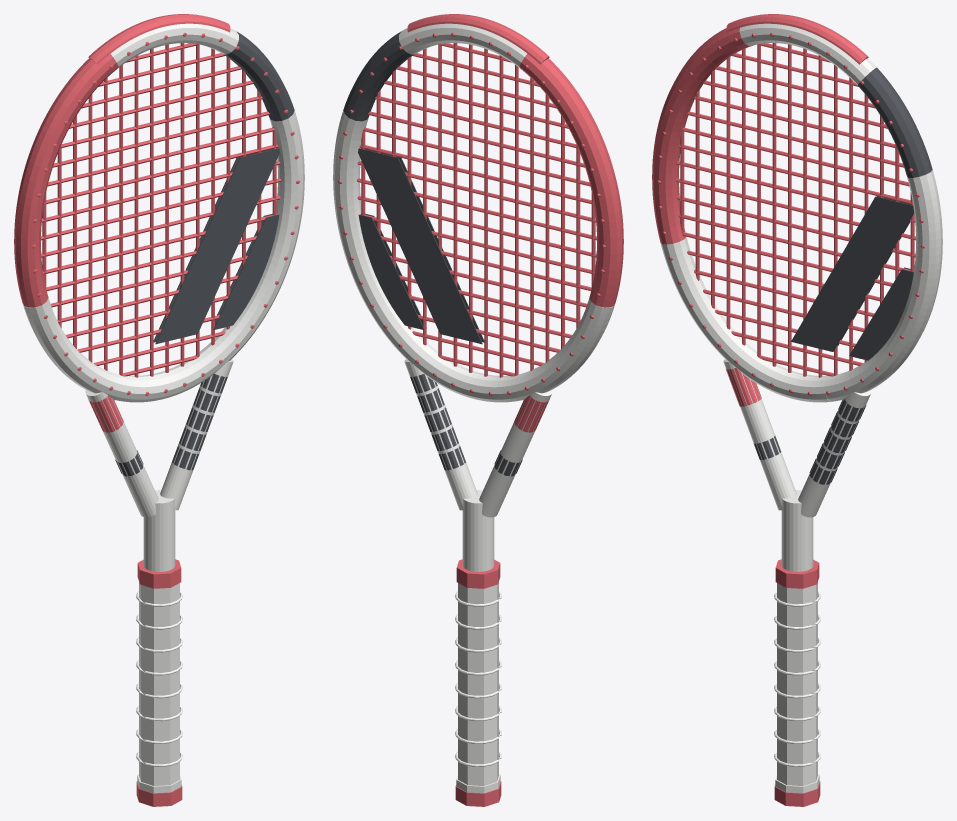
File: babolat-pure-strike-100.glb
3 renders of one model, left to right at view 1: azimuth 30°, elevation 25°; view 2: azimuth 150°, elevation 25°; view 3: azimuth 330°, elevation 25°, orthographic.
Visible parts, largest first — view 1: strings, frame, stencil, frame_black, handle, frame_white, throat, shaft, wraps, collar, grommets, cap; view 2: strings, frame, stencil, frame_black, handle, frame_white, throat, shaft, wraps, collar, grommets, cap; view 3: strings, frame, stencil, frame_black, handle, frame_white, throat, shaft, wraps, collar, grommets, cap.
Boxes of the visible parts, x1,y1,x2,y2 form: strings: (41,43,280,377); frame: (23,23,304,402); stencil: (153,148,279,344); frame_black: (14,14,230,432); handle: (139,582,179,785); frame_white: (115,31,294,476); throat: (85,359,233,517); shaft: (143,490,175,571); wraps: (136,591,182,766); collar: (137,559,181,588); grommets: (32,32,299,395); cap: (136,781,182,806); strings: (357,43,596,377); frame: (333,23,614,402); stencil: (358,148,484,344); frame_black: (407,14,623,432); handle: (458,582,498,785); frame_white: (343,31,522,476); throat: (404,359,552,517); shaft: (462,490,494,571); wraps: (455,591,501,766); collar: (456,559,500,588); grommets: (338,32,605,395); cap: (455,781,501,806); strings: (675,43,915,377); frame: (660,23,942,402); stencil: (791,196,914,360); frame_black: (652,14,868,406); handle: (777,582,817,785); frame_white: (753,68,932,484); throat: (723,359,871,517); shaft: (781,490,813,571); wraps: (774,591,820,766); collar: (775,559,819,588); grommets: (657,32,924,395); cap: (774,781,820,806).
Size of the model in its own units: 0.272 by 0.7055 by 0.039.
